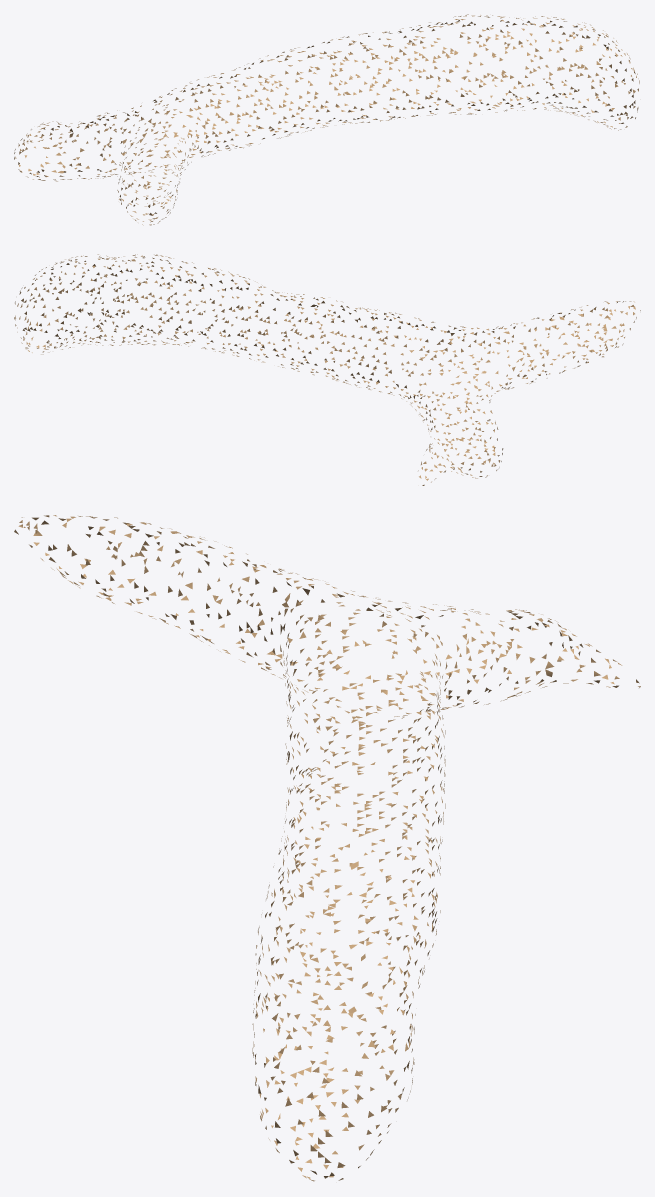
The model's file is morph_006.glb.
3 views of the same model, one above another, from view 1: azimuth 30°, elevation 25°; view 2: azimuth 150°, elevation 25°; view 3: azimuth 270°, elevation 25° (orthographic). The views are drawn at different scales.
Size of the model in its own units: 106 by 24.01 by 59.33.
